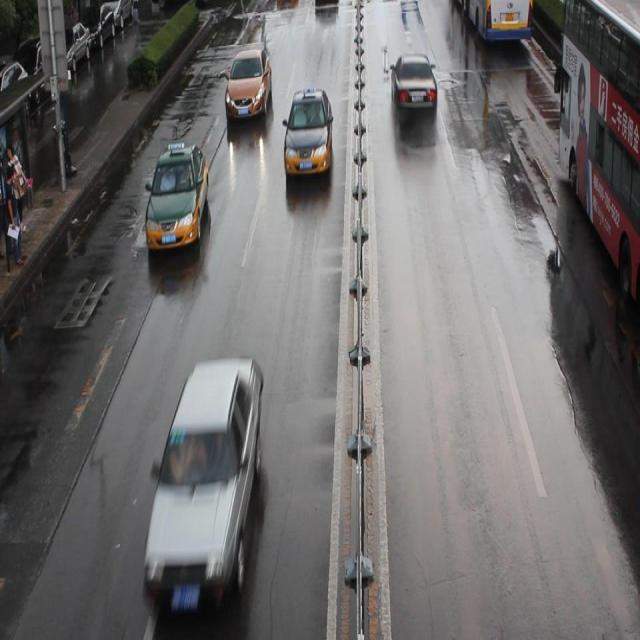car: (142, 352, 264, 604), (144, 142, 208, 252), (282, 87, 334, 175), (222, 50, 273, 123), (391, 53, 437, 115), (313, 1, 338, 13)
van: (556, 1, 640, 310), (454, 1, 532, 40)
